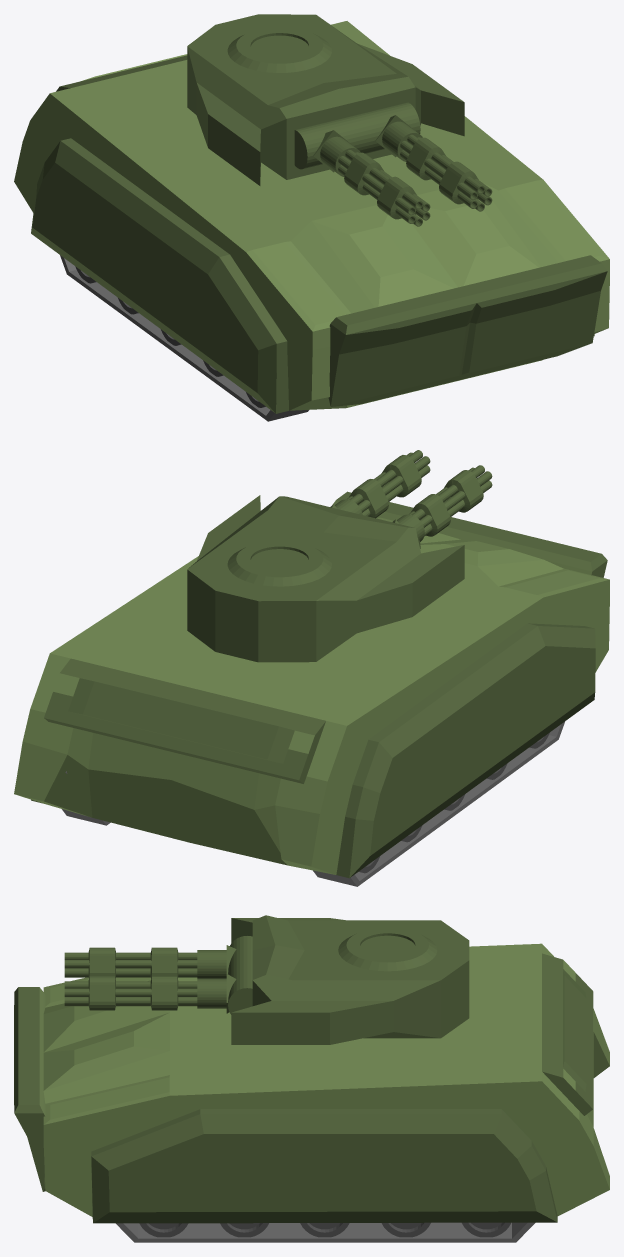
File: tier3.fbx
The picture shows the model from 3 angles, top to bottom: view 1: azimuth 30°, elevation 25°; view 2: azimuth 150°, elevation 25°; view 3: azimuth 270°, elevation 25°; orthographic projection. The views are drawn at different scales.
Parts seen in each view (by area): view 1: Body15, Turret15, Main Gun L15, Main Gun R15, ST15, Tracks15, Road Wheels15; view 2: Body15, Turret15, Main Gun R15, Tracks15, Main Gun L15, Road Wheels15; view 3: Body15, Turret15, Tracks15, Main Gun L15, Main Gun R15, Road Wheels15, ST15.
Boxes of the visible parts, x1,y1,x2,y2 form: Body15: [14, 21, 609, 413]; Turret15: [187, 14, 464, 185]; Main Gun L15: [382, 121, 492, 211]; Main Gun R15: [320, 136, 430, 226]; ST15: [294, 102, 420, 172]; Tracks15: [60, 255, 308, 421]; Road Wheels15: [75, 266, 265, 407]; Body15: [14, 491, 609, 878]; Turret15: [187, 495, 464, 662]; Main Gun R15: [397, 465, 492, 541]; Tracks15: [62, 721, 564, 886]; Main Gun L15: [335, 450, 430, 518]; Road Wheels15: [359, 732, 549, 873]; Body15: [14, 943, 609, 1223]; Turret15: [231, 915, 469, 1044]; Tracks15: [116, 1222, 535, 1242]; Main Gun L15: [64, 976, 226, 1010]; Main Gun R15: [64, 947, 226, 978]; Road Wheels15: [139, 1222, 510, 1237]; ST15: [226, 936, 252, 1014].
Size of the model in its own units: 409 by 281 by 659.
